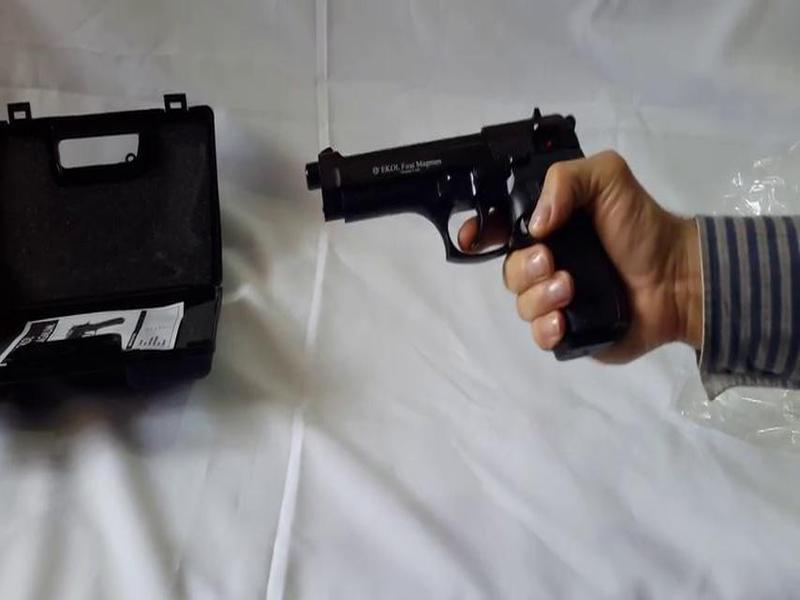Pistola: (294, 107, 636, 362)
